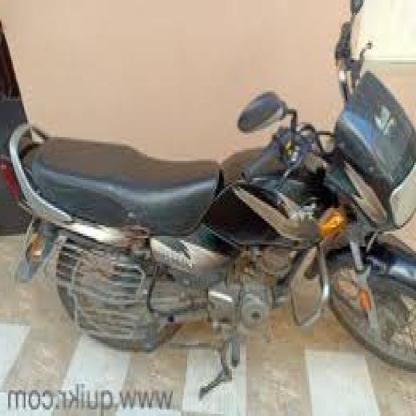bike: (5, 65, 413, 401)
